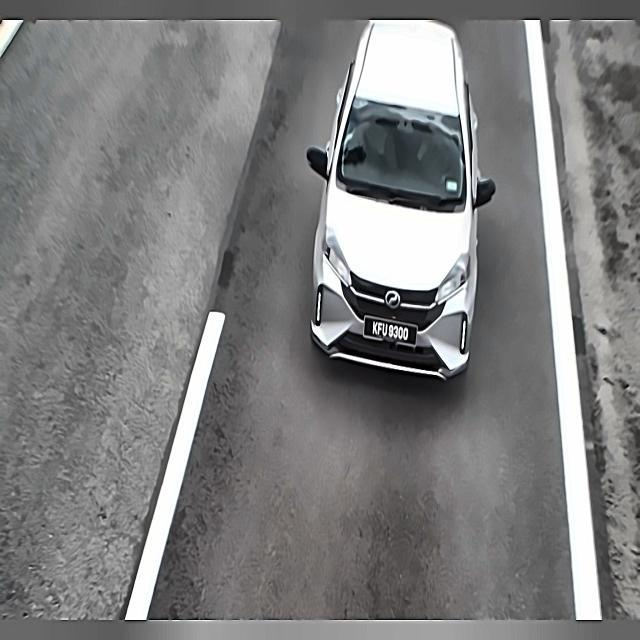car: (358, 309, 423, 352)
